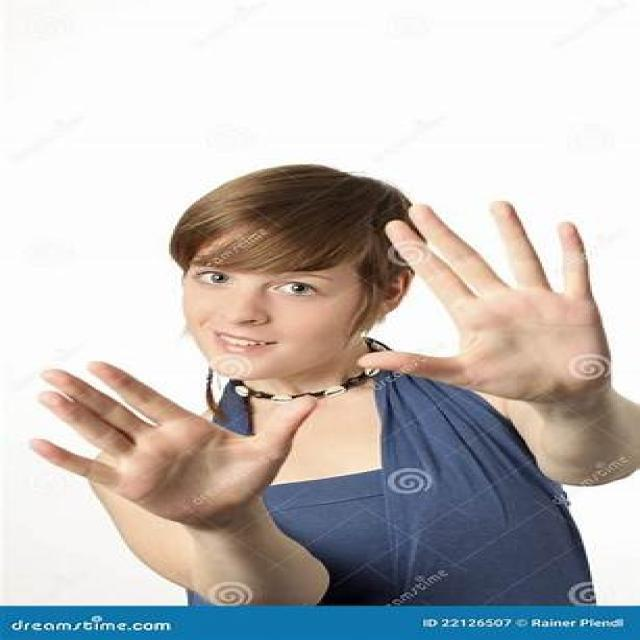not-gloved: (29, 347, 352, 520), (368, 188, 629, 400)
